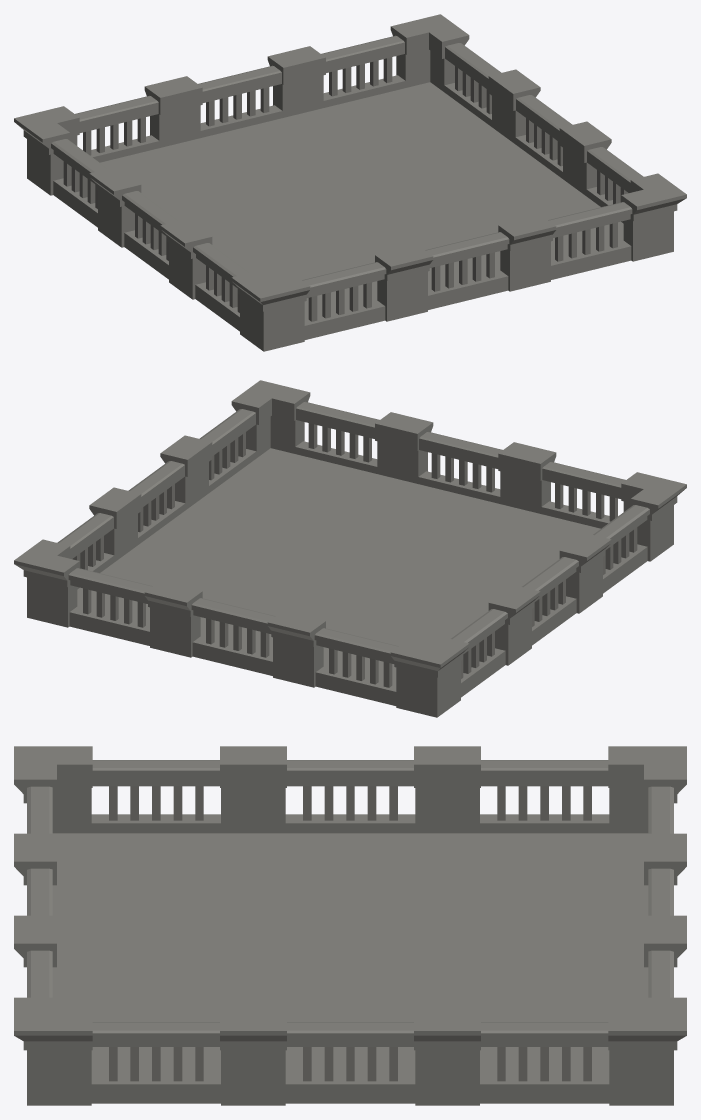
Rendered from SM_Bldg_City_High-Rise_01_Roof_03.fbx.
3 views of the same model, one above another, from view 1: azimuth 30°, elevation 25°; view 2: azimuth 150°, elevation 25°; view 3: azimuth 270°, elevation 25° (orthographic). The views are drawn at different scales.
Visible parts, largest first — view 1: SM_Bldg_City_High-Rise_01_Roof_03; view 2: SM_Bldg_City_High-Rise_01_Roof_03; view 3: SM_Bldg_City_High-Rise_01_Roof_03.
Boxes of the visible parts, x1,y1,x2,y2 form: SM_Bldg_City_High-Rise_01_Roof_03: (14,14,686,351); SM_Bldg_City_High-Rise_01_Roof_03: (14,380,686,717); SM_Bldg_City_High-Rise_01_Roof_03: (14,746,686,1105).
Size of the model in its own units: 1560 by 205 by 1560.
